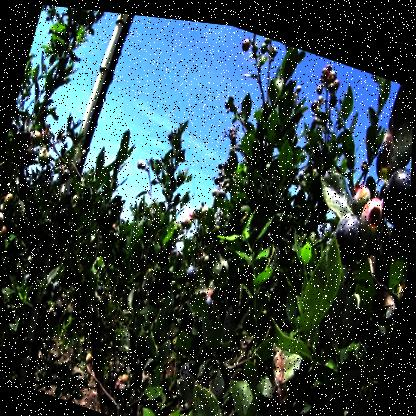intermediate: (362, 190, 390, 230)
mature: (380, 156, 412, 216), (335, 208, 366, 254), (392, 199, 411, 246), (188, 258, 205, 279)
young: (343, 284, 369, 325), (351, 172, 378, 210), (330, 278, 350, 318), (1, 210, 11, 241)
